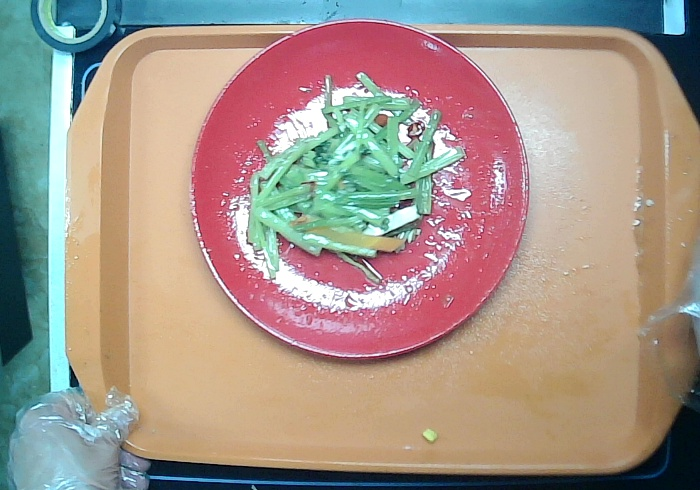HZYJPL-Hong_Se_Yuan_Pan: (187, 16, 530, 362)
